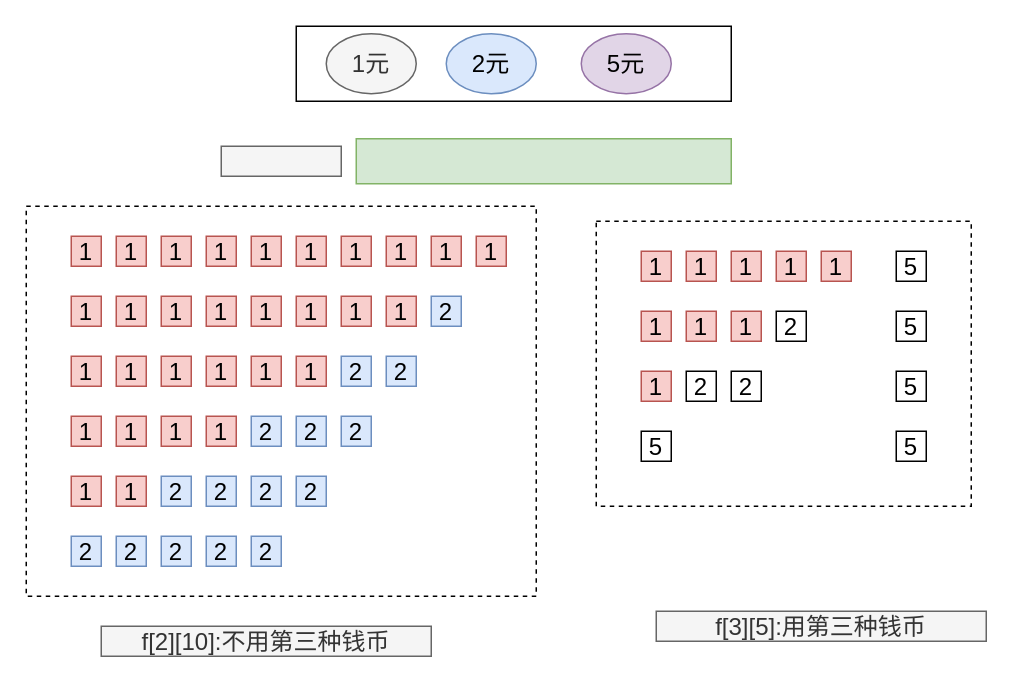
This 1013x683 diagram has some shape labels left out. Here are the shapes that lost their labels. From the top down, the centre of each, then its label:
point 280,160: f[3][10]
point 543,160: 用前3种钱币凑10块钱
